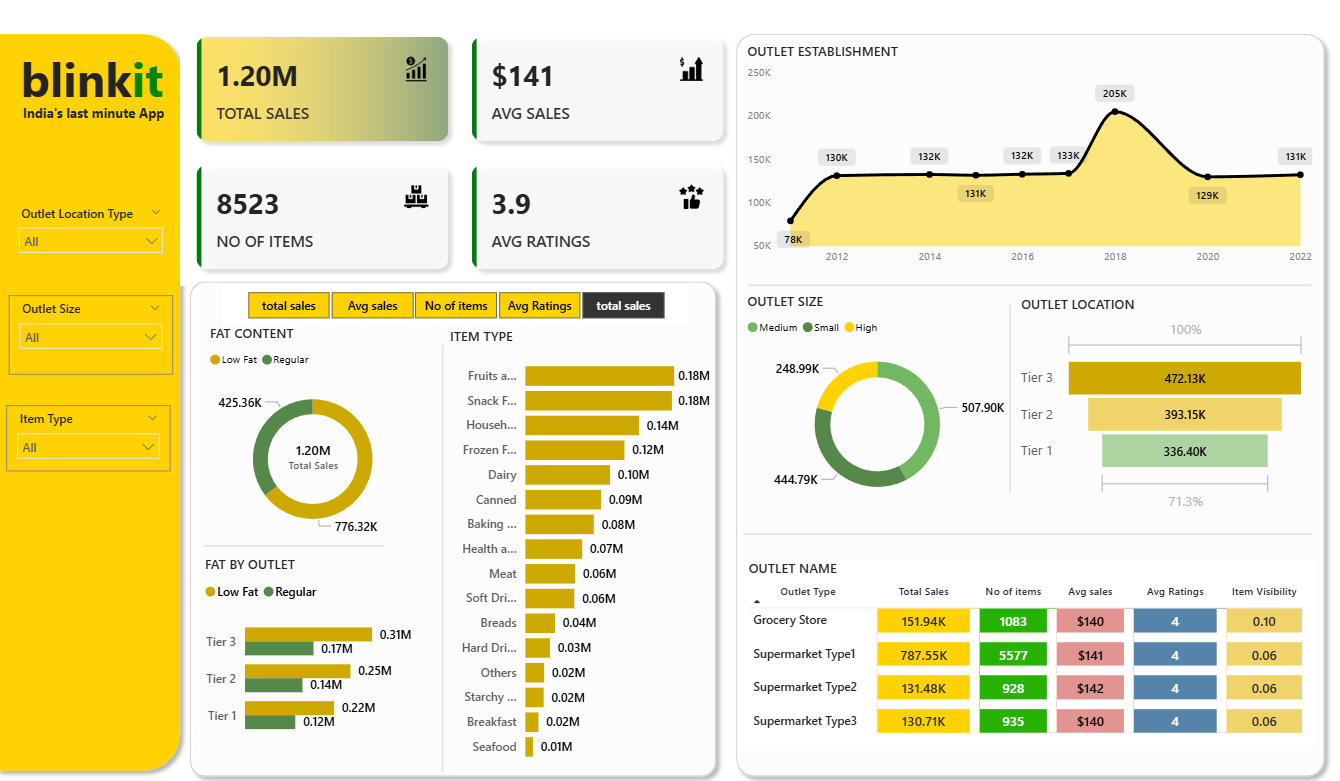

This screenshot's page, from the dashboard's own definition file:
{"tool":"powerbi","page":{"name":"Page 1","canvas":[1400,800],"ordinal":0},"visuals":[{"type":"shape","box":[7.6,26.6,205.1,767.6],"z":0},{"type":"textbox","box":[20.8,42.9,172.7,84.4],"z":1000},{"type":"textbox","box":[28.6,101.3,175.3,35.1],"z":2000},{"type":"cardVisual","fields":{"Data":["BlinkIT Grocery Data.total sales","BlinkIT Grocery Data.Avg sales","BlinkIT Grocery Data.No of items","BlinkIT Grocery Data.Avg Ratings"]},"box":[203.9,22.1,570.1,270.1],"z":3000},{"type":"shape","box":[205.1,278.5,553.2,521.5],"z":4000},{"type":"donutChart","title":"FAT CONTENT","fields":{"Y":["BlinkIT Grocery Data.Total sales"],"Category":["BlinkIT Grocery Data.Item Fat Content"]},"box":[228.6,331.2,219.5,229.9],"z":5000},{"type":"slicer","fields":{"Values":["Metrics.Metrics"]},"box":[246.8,291.1,473.4,40.5],"z":6000},{"type":"cardVisual","fields":{"Data":["BlinkIT Grocery Data.total sales"]},"box":[290.9,428.6,96.1,72.7],"z":7000},{"type":"clusteredBarChart","title":"FAT BY OUTLET","fields":{"Y":["BlinkIT Grocery Data.Total sales"],"Category":["BlinkIT Grocery Data.Outlet Location Type"],"Series":["BlinkIT Grocery Data.Item Fat Content"]},"box":[223.5,565.8,220.3,198.7],"z":8000},{"type":"shape","box":[227.8,550.6,182.3,11.4],"z":9000},{"type":"shape","box":[464.6,351.9,12.7,434.2],"z":10000},{"type":"barChart","title":"ITEM TYPE","fields":{"Y":["BlinkIT Grocery Data.Total sales"],"Category":["BlinkIT Grocery Data.Item Type"]},"box":[473.4,332.9,274.7,453.2],"z":11000},{"type":"shape","box":[760.8,26.6,616.5,773.4],"z":12000},{"type":"lineChart","title":"OUTLET ESTABLISHMENT","fields":{"Category":["BlinkIT Grocery Data.Outlet Establishment Year"],"Y":["BlinkIT Grocery Data.Total sales"]},"box":[775.9,43,584.8,235.4],"z":13000},{"type":"shape","box":[782.3,284.8,572.2,12.7],"z":14000},{"type":"donutChart","title":"OUTLET SIZE","fields":{"Y":["BlinkIT Grocery Data.Total sales"],"Category":["BlinkIT Grocery Data.Outlet Size"]},"box":[775.9,297.5,274.7,225.3],"z":15000},{"type":"shape","box":[1041.8,311.4,12.7,189.9],"z":16000},{"type":"funnel","title":"OUTLET LOCATION","fields":{"Y":["Sum(BlinkIT Grocery Data.Sales)"],"Category":["BlinkIT Grocery Data.Outlet Location Type"]},"box":[1054.4,301.3,300,225.3],"z":17000},{"type":"shape","box":[777.2,538,577.2,12.7],"z":18000},{"type":"pivotTable","title":"OUTLET NAME","fields":{"Rows":["BlinkIT Grocery Data.Outlet Type"],"Values":["BlinkIT Grocery Data.Total Sales","BlinkIT Grocery Data.No of items","BlinkIT Grocery Data.Avg sales","BlinkIT Grocery Data.Avg Ratings","Avg(BlinkIT Grocery Data.Item Visibility)"]},"box":[777.2,569.6,583.5,189.9],"z":19000},{"type":"slicer","fields":{"Values":["BlinkIT Grocery Data.Outlet Location Type"]},"box":[29.1,205.1,167.1,60.8],"z":20000},{"type":"slicer","fields":{"Values":["BlinkIT Grocery Data.Outlet Size"]},"box":[29.1,301.3,167.1,81],"z":21000},{"type":"slicer","fields":{"Values":["BlinkIT Grocery Data.Item Type"]},"box":[26.6,413.9,167.1,67.1],"z":22000}]}

Visuals, with their boxes in screenshot pixels (x1, y1, x2, y2), scaled from the page's 1400x800 canvas onto the 1340x781 screenshot:
shape: box(7, 26, 204, 775)
textbox: box(20, 42, 185, 124)
textbox: box(27, 99, 195, 133)
cardVisual - BlinkIT Grocery Data.total sales x BlinkIT Grocery Data.Avg sales: box(195, 22, 741, 285)
shape: box(196, 272, 726, 780)
"FAT CONTENT" donutChart: box(219, 323, 429, 548)
slicer - Metrics.Metrics: box(236, 284, 689, 324)
cardVisual - BlinkIT Grocery Data.total sales: box(278, 418, 370, 489)
"FAT BY OUTLET" clusteredBarChart: box(214, 552, 425, 746)
shape: box(218, 538, 393, 549)
shape: box(445, 344, 457, 767)
"ITEM TYPE" barChart: box(453, 325, 716, 767)
shape: box(728, 26, 1318, 780)
"OUTLET ESTABLISHMENT" lineChart: box(743, 42, 1302, 272)
shape: box(749, 278, 1296, 290)
"OUTLET SIZE" donutChart: box(743, 290, 1006, 510)
shape: box(997, 304, 1009, 489)
"OUTLET LOCATION" funnel: box(1009, 294, 1296, 514)
shape: box(744, 525, 1296, 538)
"OUTLET NAME" pivotTable: box(744, 556, 1302, 741)
slicer - BlinkIT Grocery Data.Outlet Location Type: box(28, 200, 188, 260)
slicer - BlinkIT Grocery Data.Outlet Size: box(28, 294, 188, 373)
slicer - BlinkIT Grocery Data.Item Type: box(25, 404, 185, 470)
